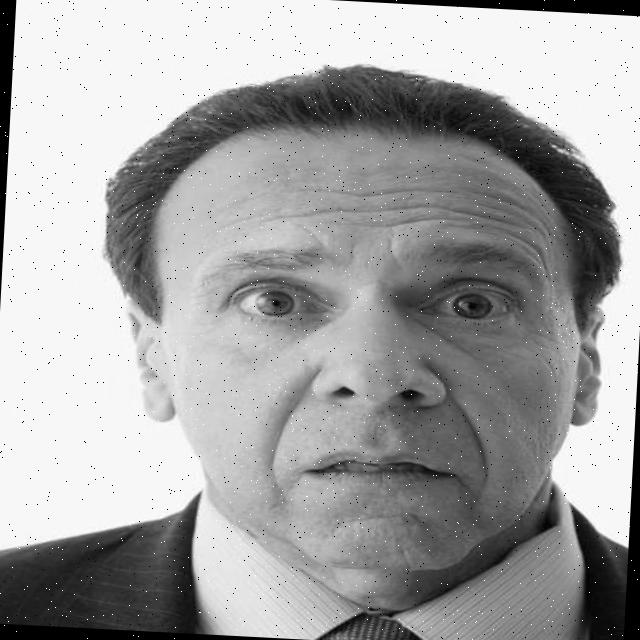Fear: (158, 125, 588, 582)
